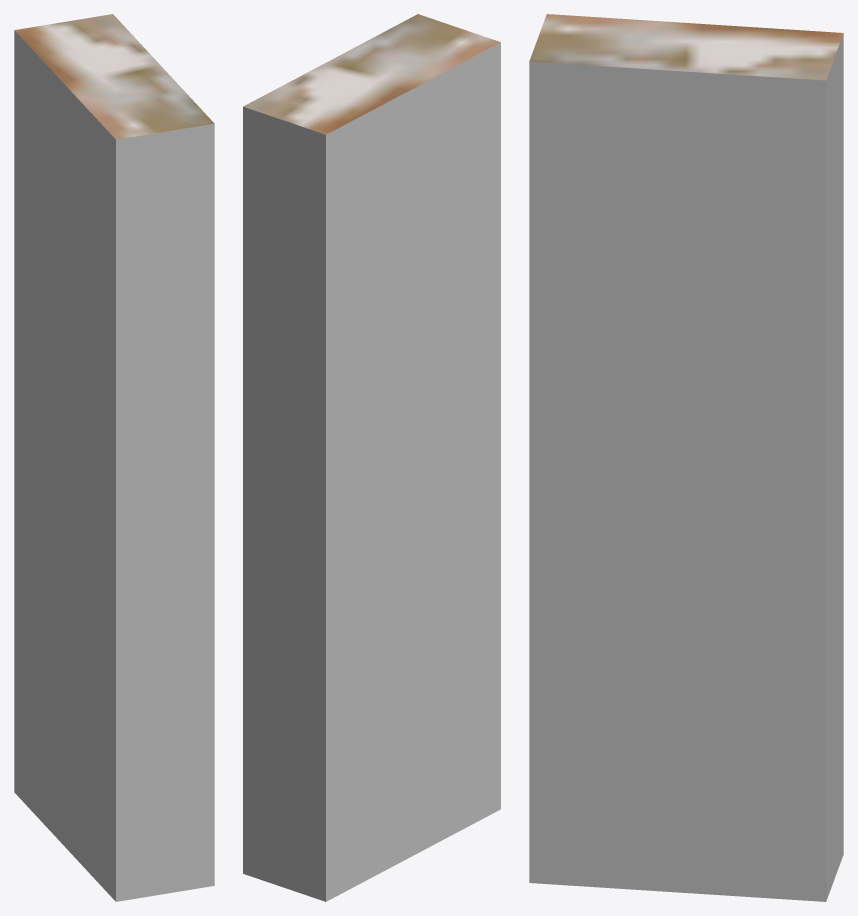
Rendered from DEBW_0010007THY9.gltf.
3 views of the same model, side by side, from view 1: azimuth 30°, elevation 25°; view 2: azimuth 150°, elevation 25°; view 3: azimuth 270°, elevation 25° (orthographic). The views are drawn at different scales.
Visible parts, largest first — view 1: Z_UP; view 2: Z_UP; view 3: Z_UP.
Boxes of the visible parts, x1=… form: Z_UP: x1=14, y1=14, x2=214, y2=901; Z_UP: x1=243, y1=14, x2=500, y2=901; Z_UP: x1=529, y1=14, x2=843, y2=901.
Size of the model in its own units: 2.07 by 11.9 by 4.13.
Materials: 2 (1 with a texture image).
